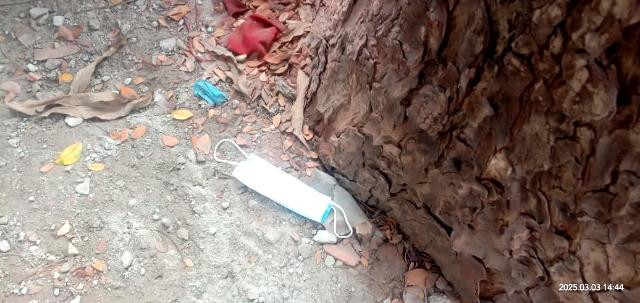mask: (233, 150, 335, 227)
